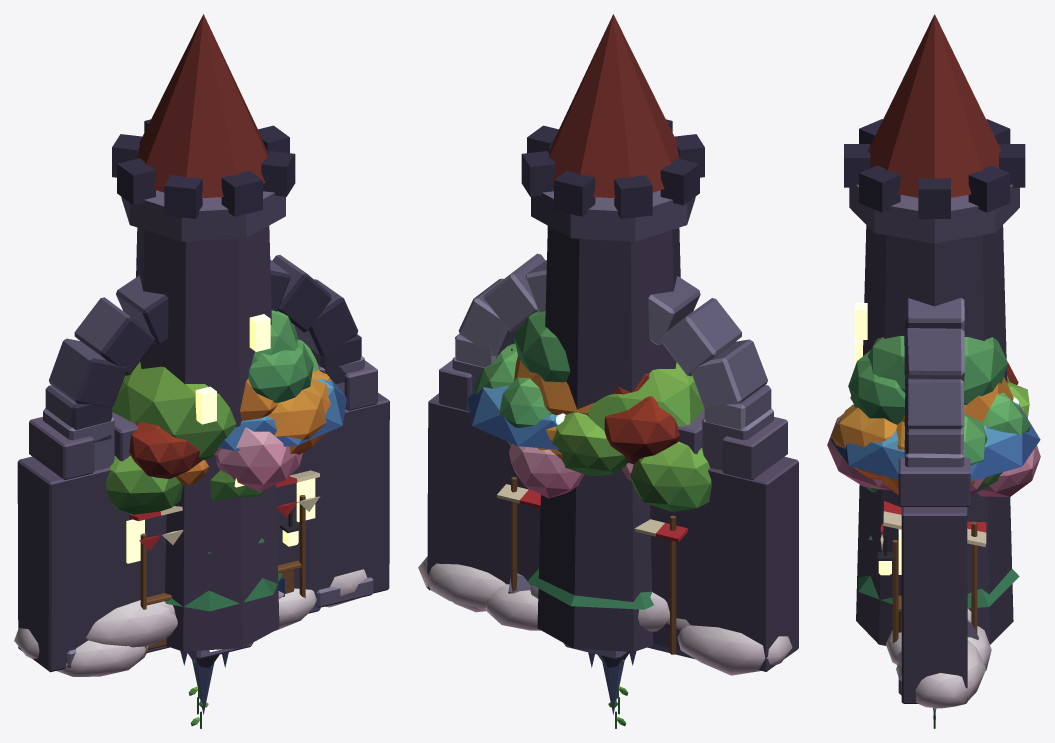
Rendered from props.glb.
3 views of the same model, side by side, from view 1: azimuth 30°, elevation 25°; view 2: azimuth 150°, elevation 25°; view 3: azimuth 270°, elevation 25° (orthographic).
Visible parts, largest first — view 1: tower, castle_wall, arch, tree_green1, tree_autumn, tree_green2, cloud_b, stall, cloud_a, tree_blossom, tree_ember, shroom_giant (+2 smaller); view 2: tower, castle_wall, arch, tree_green1, cloud_a, tree_green2, tree_ember, stall, shroom_giant, tree_blossom, cloud_b, tree_autumn (+2 smaller); view 3: tower, castle_wall, arch, tree_green2, shroom_giant, tree_autumn, stall, cloud_b, tree_blossom, pine, tree_green1, cloud_a.
Part boxes in pixels (bbox=[...]): tower: bbox=[112, 14, 295, 651]; castle_wall: bbox=[17, 360, 389, 672]; arch: bbox=[43, 255, 373, 667]; tree_green1: bbox=[106, 362, 266, 514]; tree_autumn: bbox=[176, 369, 330, 484]; tree_green2: bbox=[248, 310, 318, 402]; cloud_b: bbox=[57, 569, 367, 676]; stall: bbox=[129, 470, 320, 654]; cloud_a: bbox=[14, 600, 177, 658]; tree_blossom: bbox=[213, 421, 302, 491]; tree_ember: bbox=[129, 422, 202, 478]; shroom_giant: bbox=[218, 379, 346, 450]; tower: bbox=[521, 14, 704, 651]; castle_wall: bbox=[427, 360, 798, 671]; arch: bbox=[452, 253, 773, 470]; tree_green1: bbox=[509, 362, 711, 511]; cloud_a: bbox=[453, 584, 792, 675]; tree_green2: bbox=[475, 311, 570, 427]; tree_ember: bbox=[604, 373, 679, 464]; stall: bbox=[497, 477, 687, 654]; shroom_giant: bbox=[467, 385, 565, 449]; tree_blossom: bbox=[507, 441, 633, 498]; cloud_b: bbox=[418, 556, 538, 609]; tree_autumn: bbox=[514, 356, 593, 474]; tower: bbox=[844, 14, 1025, 645]; castle_wall: bbox=[898, 457, 970, 703]; arch: bbox=[898, 298, 964, 695]; tree_green2: bbox=[848, 335, 1030, 465]; shroom_giant: bbox=[830, 396, 1040, 481]; tree_autumn: bbox=[831, 377, 1024, 494]; stall: bbox=[877, 501, 986, 643]; cloud_b: bbox=[886, 609, 985, 708]; tree_blossom: bbox=[827, 414, 1040, 497]; pine: bbox=[858, 535, 1019, 608]; tree_green1: bbox=[865, 375, 1029, 492]; cloud_a: bbox=[967, 626, 991, 670].
Size of the model in its own units: 6.4 by 12.02 by 3.25.
